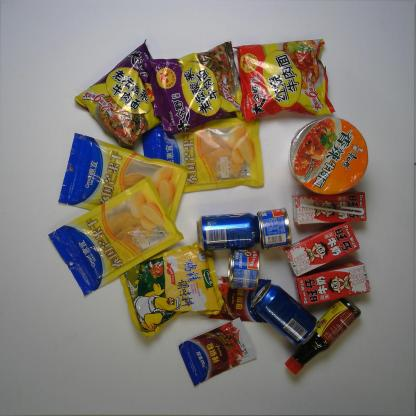Canned Food: (257, 207, 292, 251), (227, 248, 259, 291)
Dried Fruit: (48, 176, 185, 296), (58, 132, 189, 225), (142, 116, 264, 194)
Drink: (251, 282, 318, 348), (196, 212, 262, 252)
Instant Noodles: (74, 38, 161, 150), (142, 41, 244, 134), (231, 38, 336, 123), (288, 117, 368, 196)
Milk: (284, 222, 360, 277), (293, 260, 371, 306), (292, 192, 367, 226)
Seasoner: (119, 242, 225, 338), (284, 296, 362, 375), (178, 317, 258, 387), (201, 275, 272, 324)
